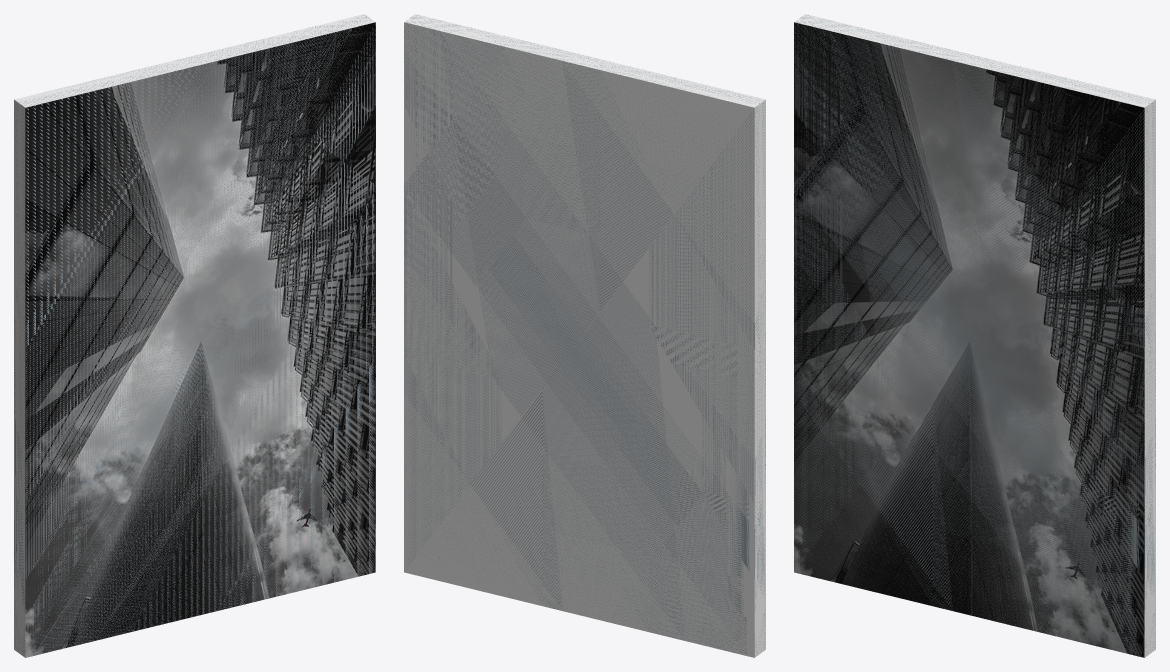
The model's file is art30.dae.
3 renders of one model, left to right at view 1: azimuth 30°, elevation 25°; view 2: azimuth 150°, elevation 25°; view 3: azimuth 330°, elevation 25°, orthographic.
Visible parts, largest first — view 1: Group_26 (×2); view 2: Group_26; view 3: Group_26 (×2).
Part boxes in pixels (x1,y1,x2,y2): Group_26 (×2): (14, 14, 375, 657); Group_26: (404, 14, 765, 657); Group_26 (×2): (794, 14, 1155, 657).
Bounding box in the file's own units: 35.43 × 1.97 × 53.15.
3 materials, 1 textured.
